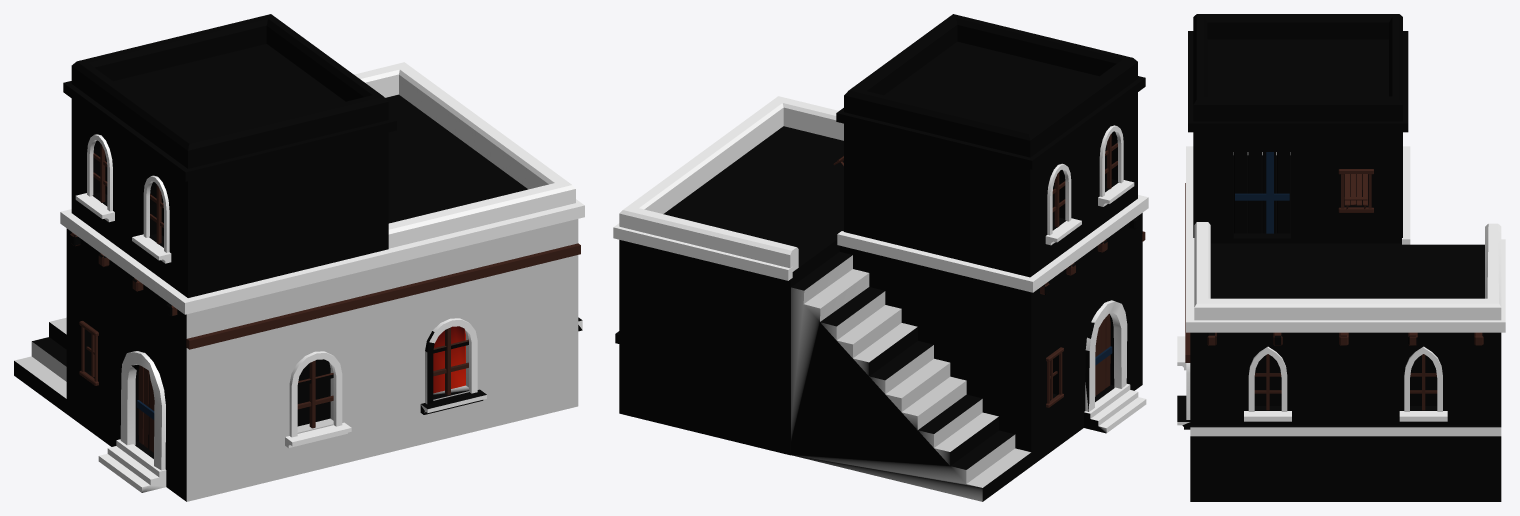
Rendered from civilian_house_31_f.FBX.
3 renders of one model, left to right at view 1: azimuth 30°, elevation 25°; view 2: azimuth 150°, elevation 25°; view 3: azimuth 270°, elevation 25°, orthographic. The views are drawn at different scales.
Parts seen in each view (by area): view 1: civilian_house_31_f; view 2: civilian_house_31_f; view 3: civilian_house_31_f.
Part boxes in pixels (<box>): civilian_house_31_f: <box>14,14,584,501</box>; civilian_house_31_f: <box>613,14,1148,501</box>; civilian_house_31_f: <box>1177,14,1505,501</box>.
Size of the model in its own units: 1146 by 904 by 844.
